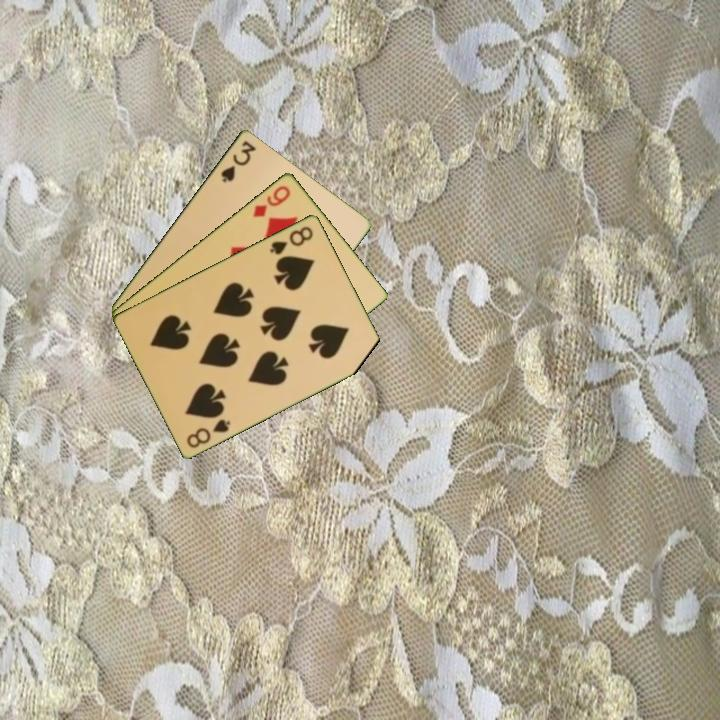3s: (217, 137, 259, 185)
8s: (183, 415, 234, 451), (266, 222, 316, 257)
9d: (249, 181, 294, 220)
